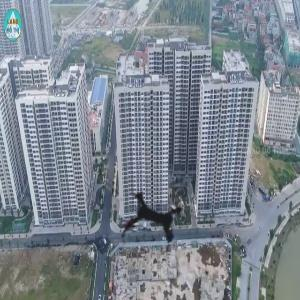drone: (93, 156, 223, 286)
